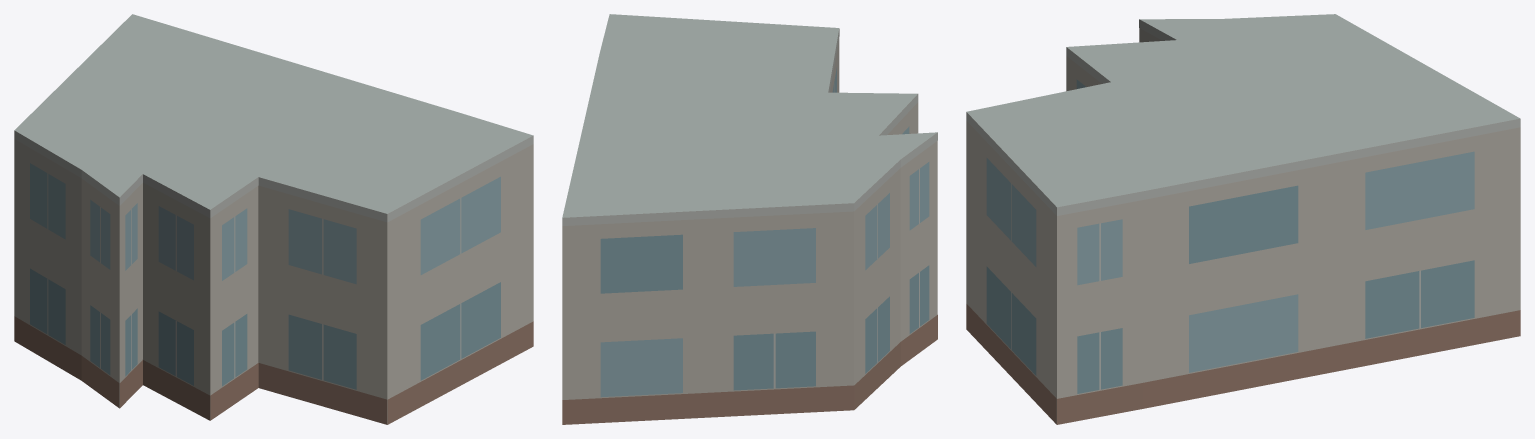
Rendered from survey-upis-32728001.glb.
The picture shows the model from 3 angles, left to right: view 1: azimuth 30°, elevation 25°; view 2: azimuth 150°, elevation 25°; view 3: azimuth 270°, elevation 25°; orthographic projection. The views are drawn at different scales.
Visible parts, largest first — view 1: survey-upis-32728001.tmp; view 2: survey-upis-32728001.tmp; view 3: survey-upis-32728001.tmp.
Boxes of the visible parts, left/top/right/bottom form: survey-upis-32728001.tmp: left=14, top=14, right=533, bottom=424; survey-upis-32728001.tmp: left=562, top=14, right=937, bottom=424; survey-upis-32728001.tmp: left=966, top=14, right=1520, bottom=424.
Bounding box in the file's own units: 11.64 × 6.1 × 14.1.
